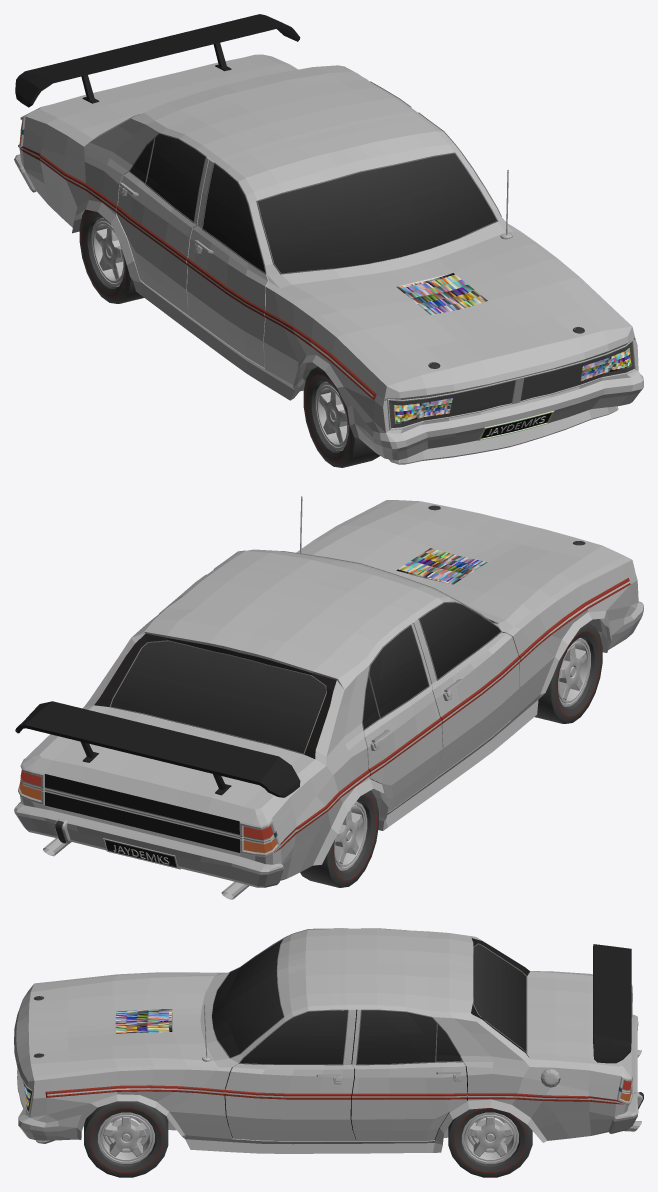
File: player_4.glb
3 views of the same model, one above another, from view 1: azimuth 30°, elevation 25°; view 2: azimuth 150°, elevation 25°; view 3: azimuth 270°, elevation 25° (orthographic). The views are drawn at different scales.
Visible parts, largest first — view 1: Body, Wheel_FR_mesh, Wheel_RR_mesh; view 2: Body, Wheel_FR_mesh, Wheel_RR_mesh; view 3: Body, Wheel_FL_mesh, Wheel_RL_mesh.
Boxes of the visible parts, x1,y1,x2,y2 form: Body: (14,14,643,464); Wheel_FR_mesh: (303,366,379,467); Wheel_RR_mesh: (79,209,143,303); Body: (14,496,643,899); Wheel_FR_mesh: (535,622,602,723); Wheel_RR_mesh: (300,790,378,887); Body: (14,928,643,1153); Wheel_FL_mesh: (84,1101,168,1177); Wheel_RL_mesh: (448,1108,532,1177).
Size of the model in its own units: 1.96 by 1.4 by 4.8.
Materials: 7 (5 with a texture image).
